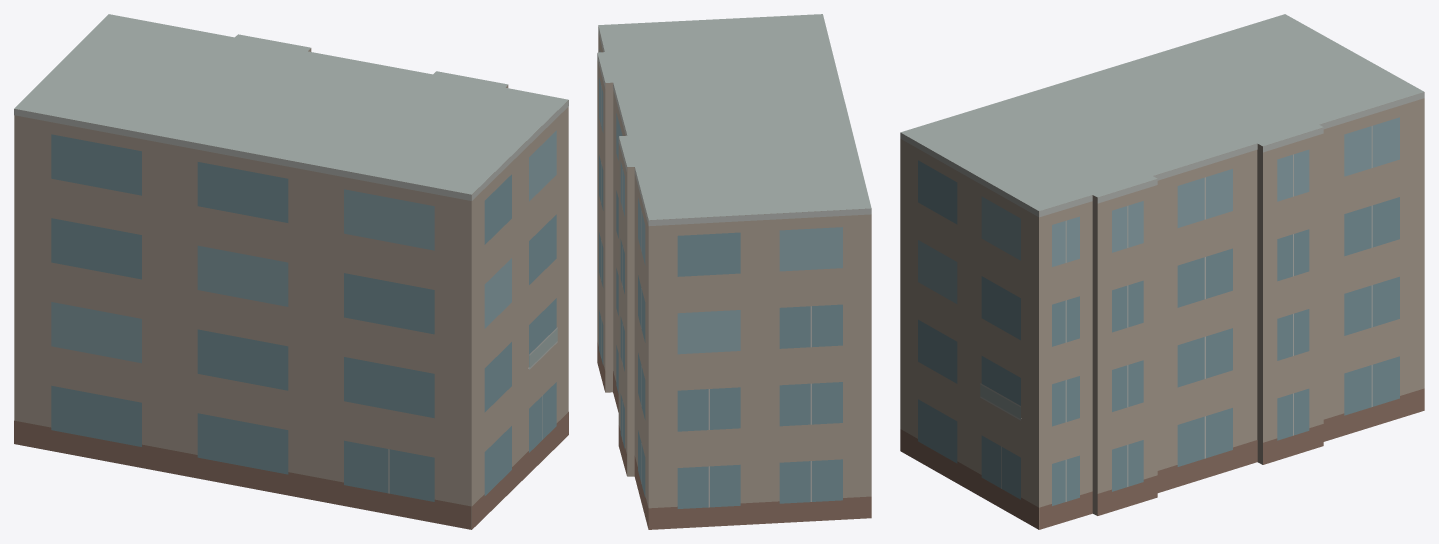
File: survey-upis-32809116.glb
3 renders of one model, left to right at view 1: azimuth 30°, elevation 25°; view 2: azimuth 150°, elevation 25°; view 3: azimuth 270°, elevation 25°, orthographic. The views are drawn at different scales.
Parts seen in each view (by area): view 1: survey-upis-32809116.tmp; view 2: survey-upis-32809116.tmp; view 3: survey-upis-32809116.tmp.
Boxes of the visible parts, bbox=[...] form: survey-upis-32809116.tmp: bbox=[14, 14, 568, 529]; survey-upis-32809116.tmp: bbox=[597, 14, 871, 529]; survey-upis-32809116.tmp: bbox=[900, 14, 1424, 529].
Bounding box in the file's own units: 16.74 × 12.6 × 18.8.
